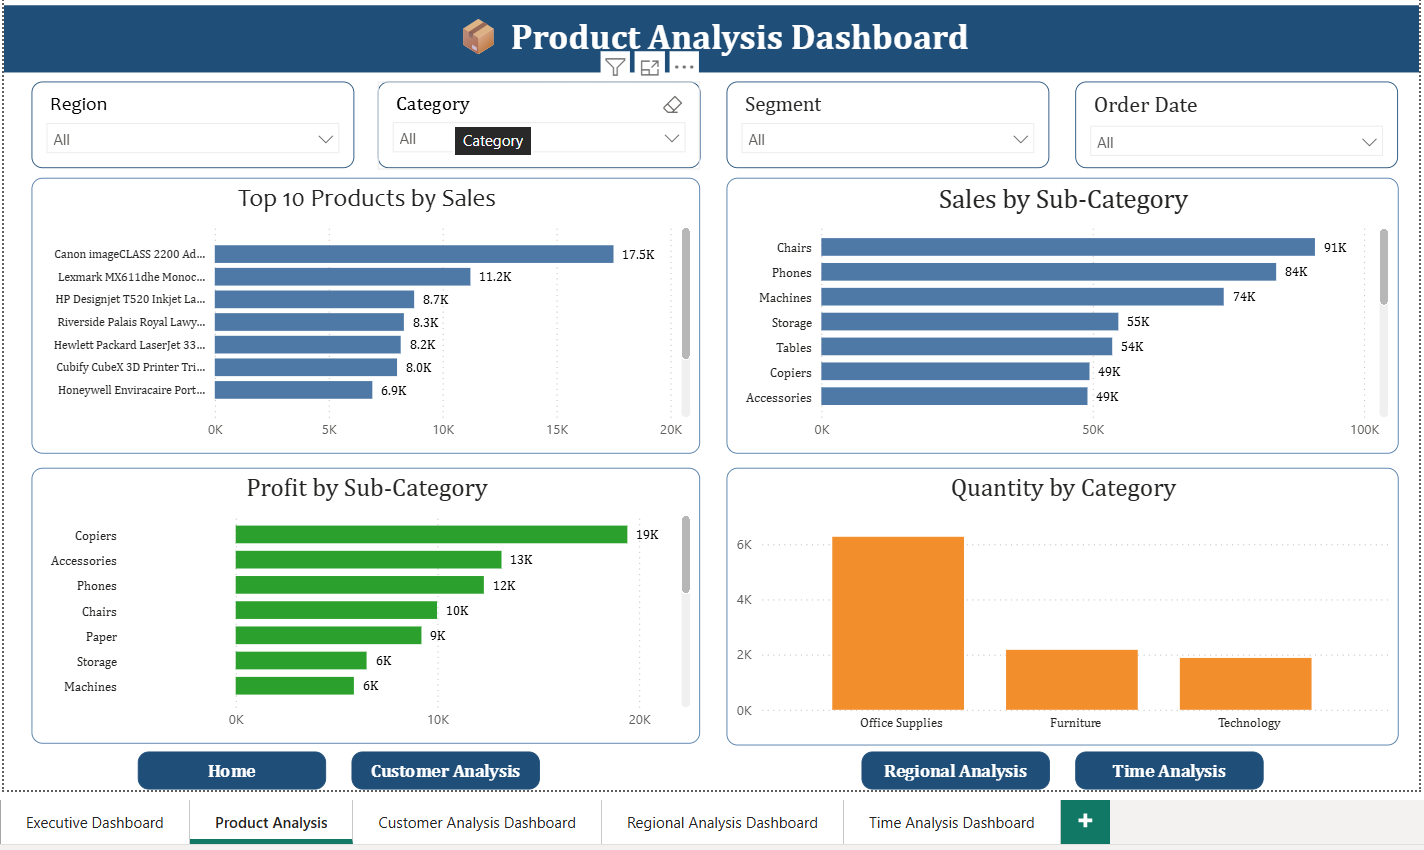

The dashboard page shown, as its layout file describes it:
{"tool":"powerbi","page":{"name":"Product Analysis","canvas":[1280,720],"ordinal":1},"visuals":[{"type":"textbox","box":[0,10.5,1280.2,61],"z":0},{"type":"slicer","fields":{"Values":["superstore_clean.Region"]},"box":[24.7,79.6,292.3,78.2],"z":1000},{"type":"slicer","fields":{"Values":["superstore_clean.Category"]},"box":[337.6,79.6,292.3,78.2],"z":2000},{"type":"slicer","fields":{"Values":["superstore_clean.Segment"]},"box":[653.2,79.6,292.3,78.2],"z":3000},{"type":"slicer","fields":{"Values":["superstore_clean.Order Date"]},"box":[968.8,79.6,292.3,78.2],"z":4000},{"type":"clusteredBarChart","title":"Top 10 Products by Sales","fields":{"Category":["superstore_clean.Product Name"],"Y":["Sum(superstore_clean.Sales)"]},"box":[24.7,166,605.1,249.7],"z":5000},{"type":"clusteredBarChart","title":"Sales by Sub-Category","fields":{"Category":["superstore_clean.Sub-Category"],"Y":["Sum(superstore_clean.Sales)"]},"box":[653.2,166,607.9,249.7],"z":6000},{"type":"clusteredBarChart","title":"Profit by Sub-Category","fields":{"Category":["superstore_clean.Sub-Category"],"Y":["Sum(superstore_clean.Profit)"]},"box":[24.7,428.1,605.1,249.7],"z":7000},{"type":"clusteredColumnChart","title":"Quantity by Category","fields":{"Category":["superstore_clean.Category"],"Y":["Sum(superstore_clean.Quantity)"]},"box":[653.2,428.1,607.9,251.1],"z":8000},{"type":"actionButton","box":[120.8,685.7,170.2,34.3],"z":9000},{"type":"actionButton","box":[314.2,685.7,170.2,34.3],"z":10000},{"type":"actionButton","box":[775.3,685.7,170.2,34.3],"z":11000},{"type":"actionButton","box":[968.8,685.7,170.2,34.3],"z":12000}]}

Visuals, with their boxes on the page's 1280x720 design canvas (x1, y1, x2, y2). These are canvas units, not pixel positions in the 1424x850 screenshot, which may show the page scaled, cropped or inside an application window:
textbox: box=[0, 10, 1280, 72]
slicer - superstore_clean.Region: box=[25, 80, 317, 158]
slicer - superstore_clean.Category: box=[338, 80, 630, 158]
slicer - superstore_clean.Segment: box=[653, 80, 946, 158]
slicer - superstore_clean.Order Date: box=[969, 80, 1261, 158]
"Top 10 Products by Sales" clusteredBarChart: box=[25, 166, 630, 416]
"Sales by Sub-Category" clusteredBarChart: box=[653, 166, 1261, 416]
"Profit by Sub-Category" clusteredBarChart: box=[25, 428, 630, 678]
"Quantity by Category" clusteredColumnChart: box=[653, 428, 1261, 679]
actionButton: box=[121, 686, 291, 720]
actionButton: box=[314, 686, 484, 720]
actionButton: box=[775, 686, 946, 720]
actionButton: box=[969, 686, 1139, 720]
